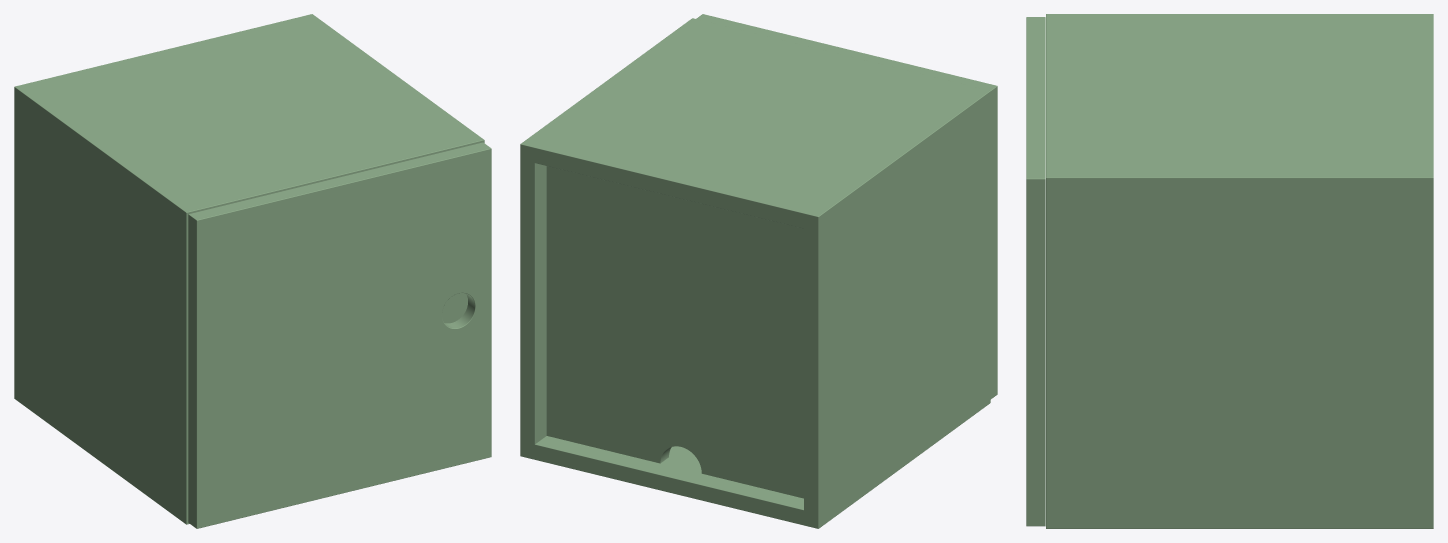
Rendered from MOD-1X1-D-B-DER-AP-SA.glb.
3 renders of one model, left to right at view 1: azimuth 30°, elevation 25°; view 2: azimuth 150°, elevation 25°; view 3: azimuth 270°, elevation 25°, orthographic. The views are drawn at different scales.
Size of the model in its own units: 360 by 360 by 378.
